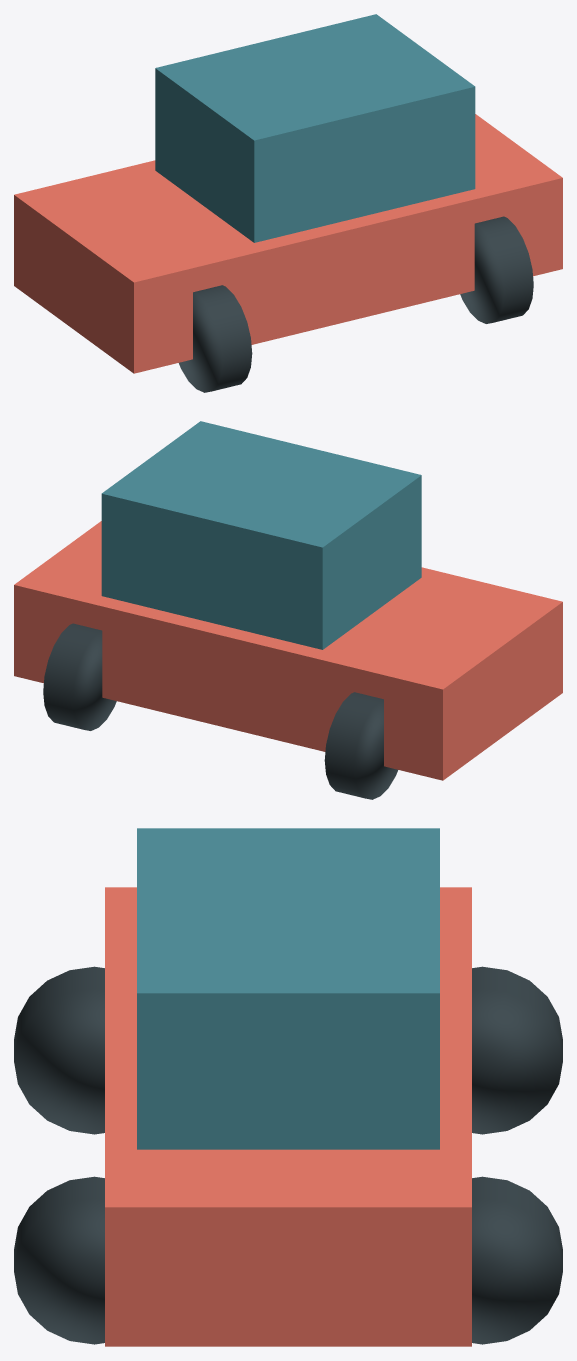
File: placeholder-car.glb
3 renders of one model, top to bottom at view 1: azimuth 30°, elevation 25°; view 2: azimuth 150°, elevation 25°; view 3: azimuth 270°, elevation 25°, orthographic. The views are drawn at different scales.
Parts seen in each view (by area): view 1: Body, Cabin, Wheel-2, Wheel-1; view 2: Body, Cabin, Wheel-4, Wheel-3; view 3: Cabin, Body, Wheel-1, Wheel-3, Wheel-2, Wheel-4.
Boxes of the visible parts, x1=… form: Body: x1=14, y1=114, x2=562, y2=373; Cabin: x1=155, y1=14, x2=475, y2=242; Wheel-2: x1=460, y1=216, x2=533, y2=323; Wheel-1: x1=179, y1=285, x2=252, y2=392; Body: x1=14, y1=521, x2=562, y2=780; Cabin: x1=101, y1=421, x2=421, y2=649; Wheel-4: x1=43, y1=623, x2=116, y2=730; Wheel-3: x1=324, y1=692, x2=397, y2=799; Cabin: x1=137, y1=828, x2=439, y2=1149; Body: x1=105, y1=887, x2=471, y2=1346; Wheel-1: x1=14, y1=966, x2=104, y2=1134; Wheel-3: x1=472, y1=966, x2=562, y2=1134; Wheel-2: x1=14, y1=1176, x2=104, y2=1344; Wheel-4: x1=472, y1=1176, x2=562, y2=1344.
Bounding box in the file's own units: 3.2 × 1.58 × 2.32.
